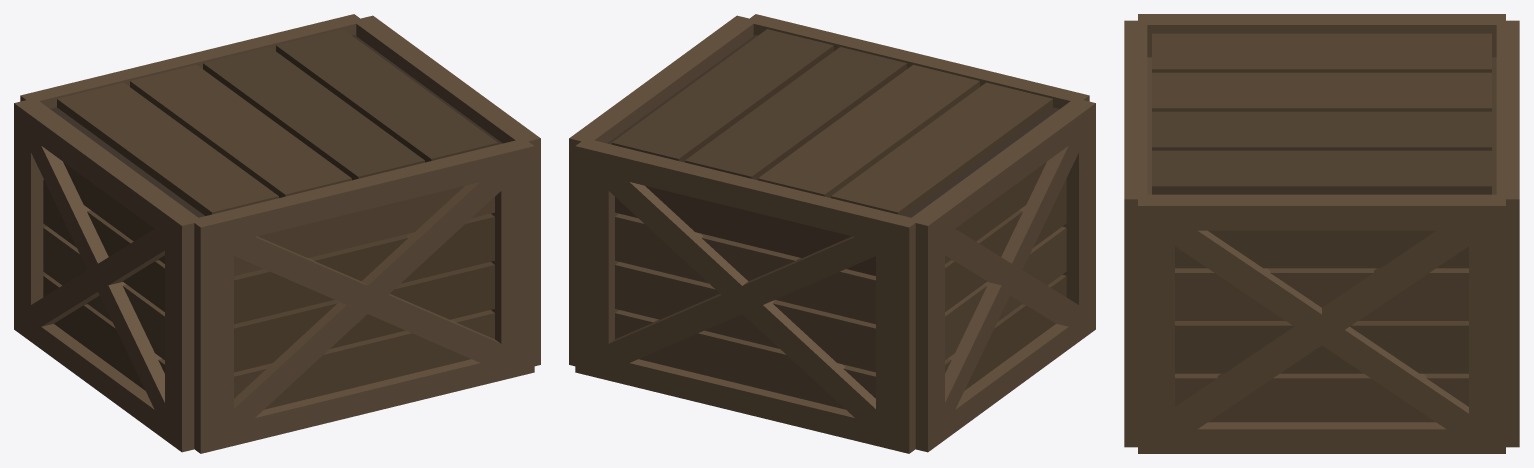
The model's file is closed_crate.glb.
The picture shows the model from 3 angles, left to right: view 1: azimuth 30°, elevation 25°; view 2: azimuth 150°, elevation 25°; view 3: azimuth 270°, elevation 25°; orthographic projection. The views are drawn at different scales.
Visible parts, largest first — view 1: ClosedTransitCrate; view 2: ClosedTransitCrate; view 3: ClosedTransitCrate.
Boxes of the visible parts, x1,y1,x2,y2 form: ClosedTransitCrate: (14, 14, 540, 453); ClosedTransitCrate: (569, 14, 1095, 453); ClosedTransitCrate: (1124, 14, 1519, 453).
Bounding box in the file's own units: 0.788 × 0.475 × 0.686.
